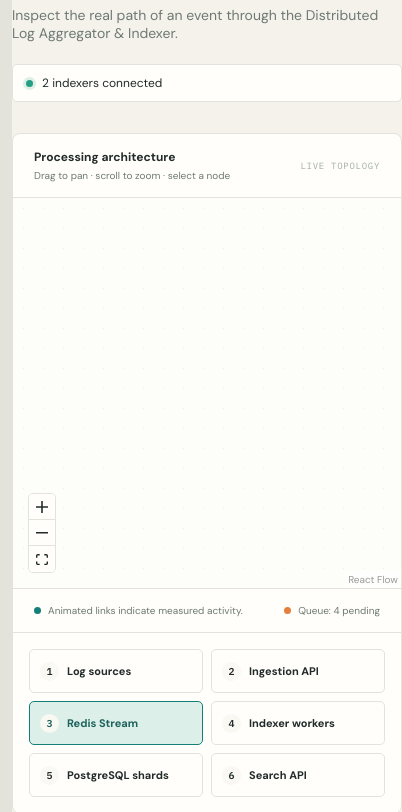
Test: frontend views › shows component detail when a pipeline node is selected
Click the button "4 Indexer workers" at (298, 723), box 211,701 -> 385,745
(page scrolled)
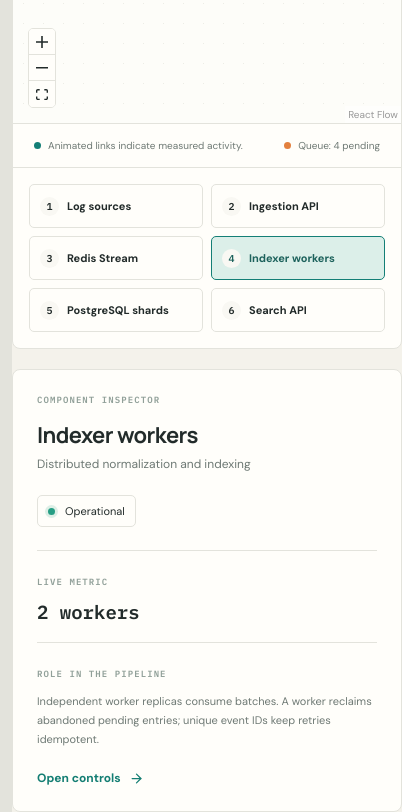
expect the heading "Indexer workers" is shown: met, box 37,420 -> 198,450
